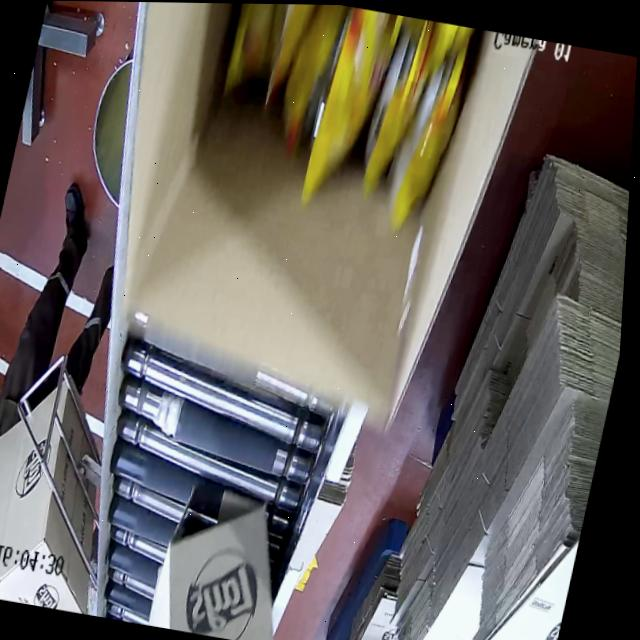SALTED: (182, 3, 494, 219)
